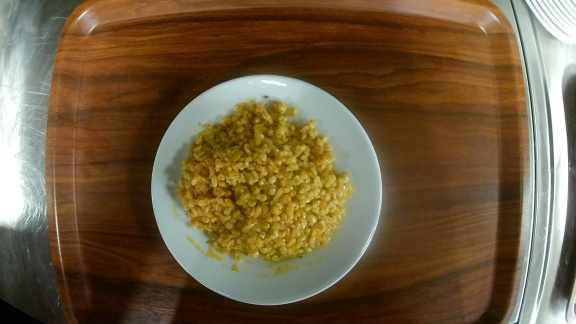bulgur: (152, 73, 383, 306)
